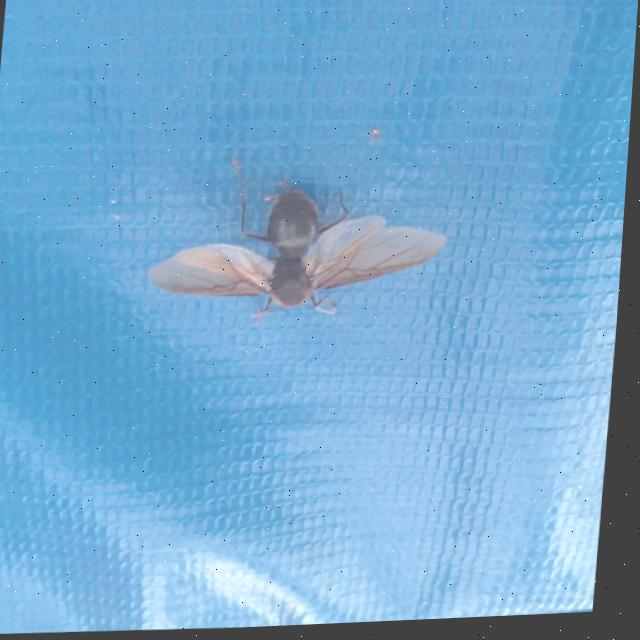Alive-Male-Alate: (146, 150, 457, 335)
